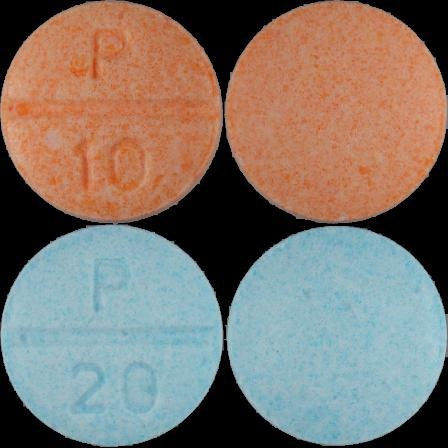53808-0547: (0, 0, 224, 224)
